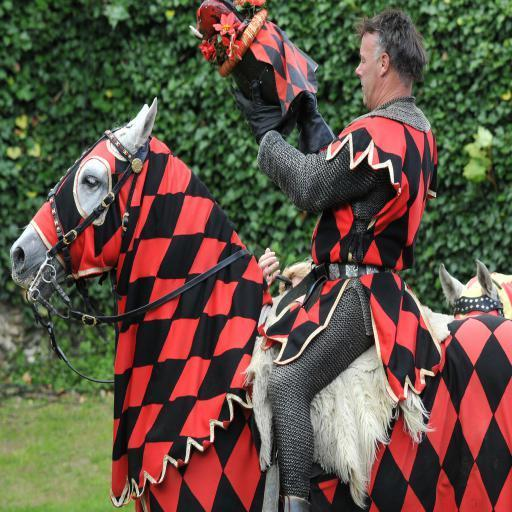horse: (8, 94, 512, 512), (437, 258, 511, 322)
